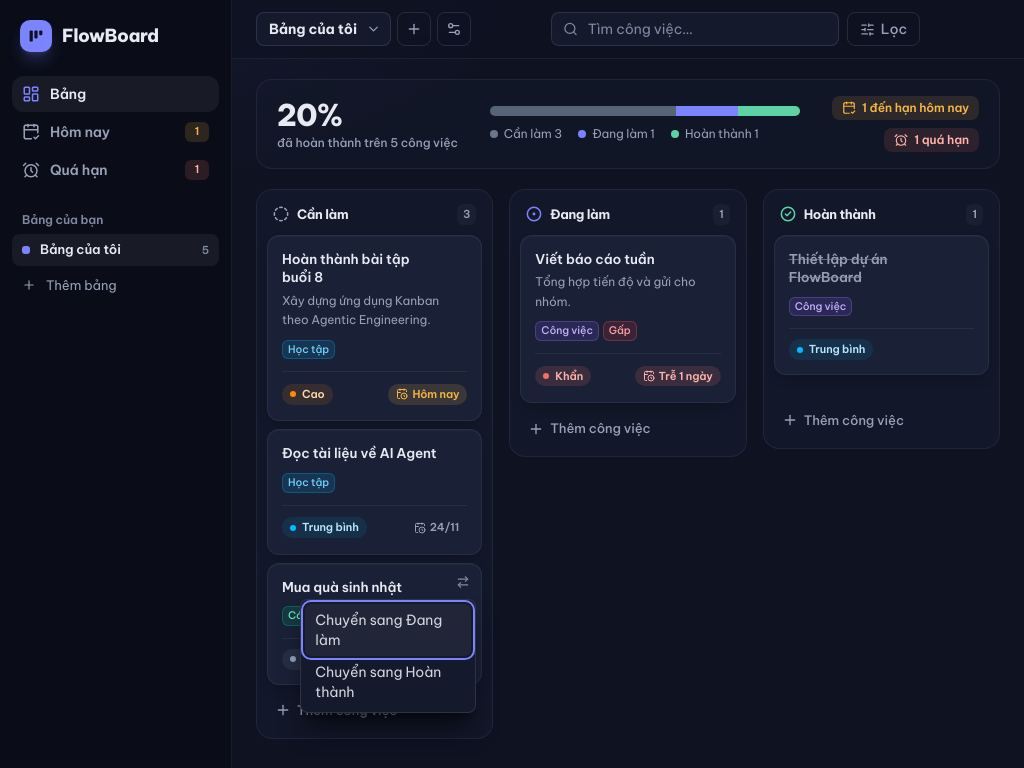
board overview › updates when a task is completed
Earlier steps of the test are not shown.
Click the menu item "Chuyển sang Hoàn thành".
click(388, 682)  # box [305,656,471,708]
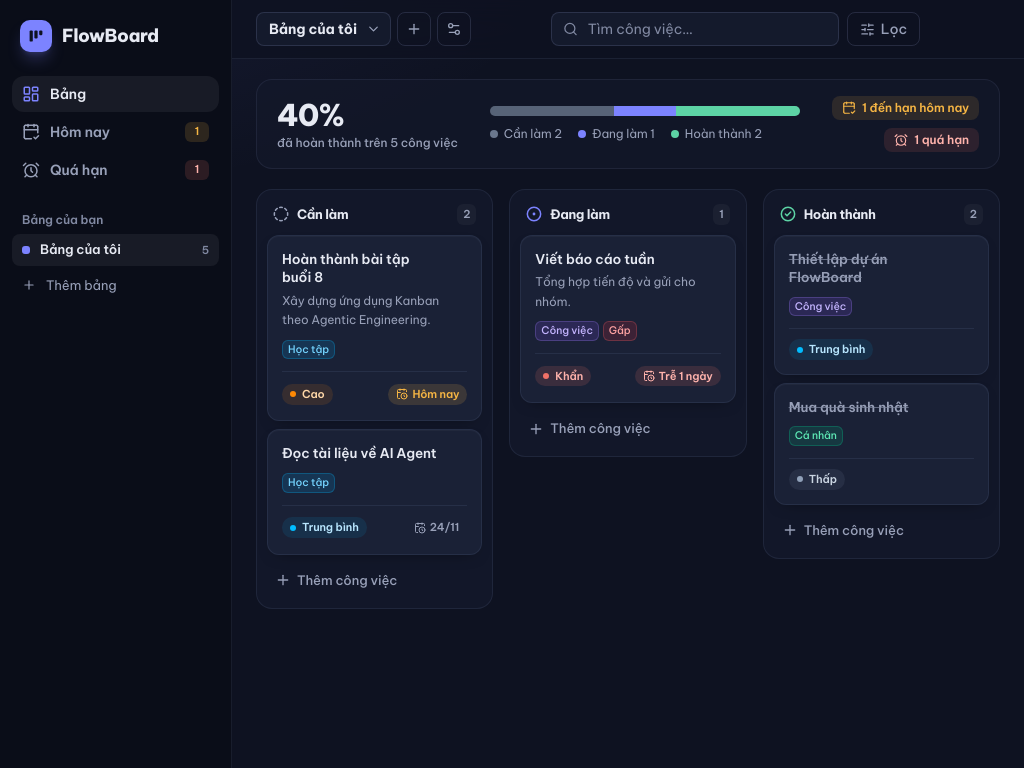
expect the progress indicator named "Tiến độ bảng" has attribute aria-valuenow="40": met, box [490,106,800,116]
